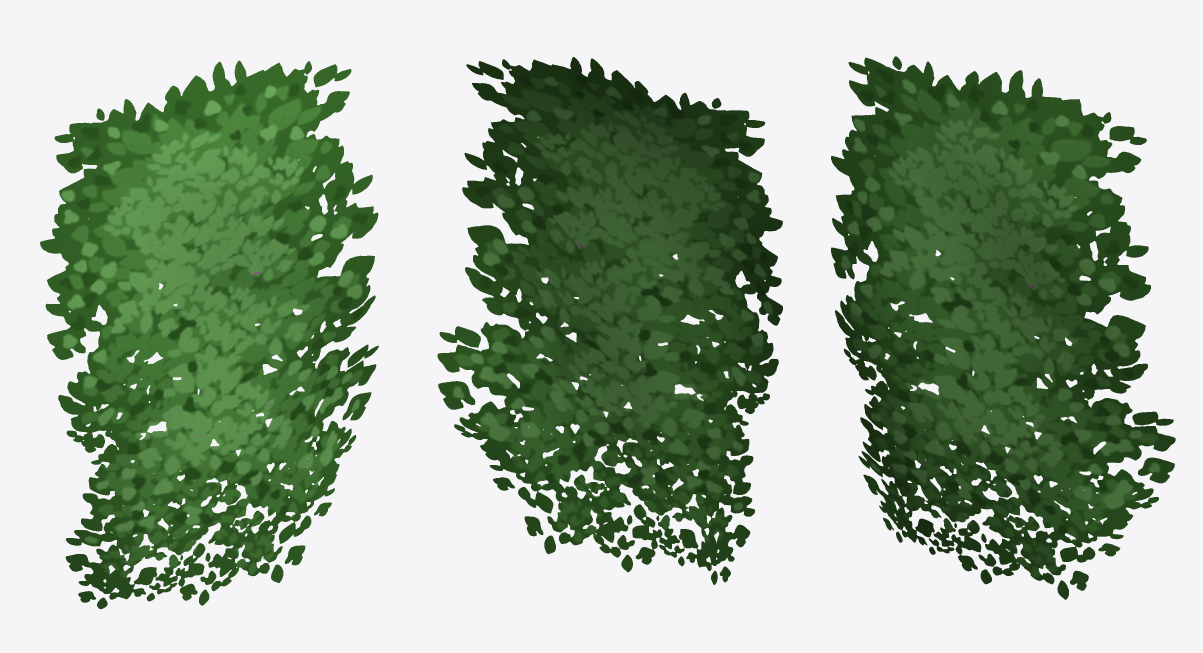
Rendered from E_Pared.fbx.
3 renders of one model, left to right at view 1: azimuth 30°, elevation 25°; view 2: azimuth 150°, elevation 25°; view 3: azimuth 330°, elevation 25°, orthographic. The views are drawn at different scales.
Parts seen in each view (by area): view 1: E_Pared; view 2: E_Pared; view 3: E_Pared.
Boxes of the visible parts, bbox=[...] form: E_Pared: bbox=[40, 60, 378, 608]; E_Pared: bbox=[437, 57, 782, 584]; E_Pared: bbox=[831, 56, 1175, 599].
Size of the model in its own units: 810 by 1199 by 141.
Materials: 1 (1 with a texture image).
